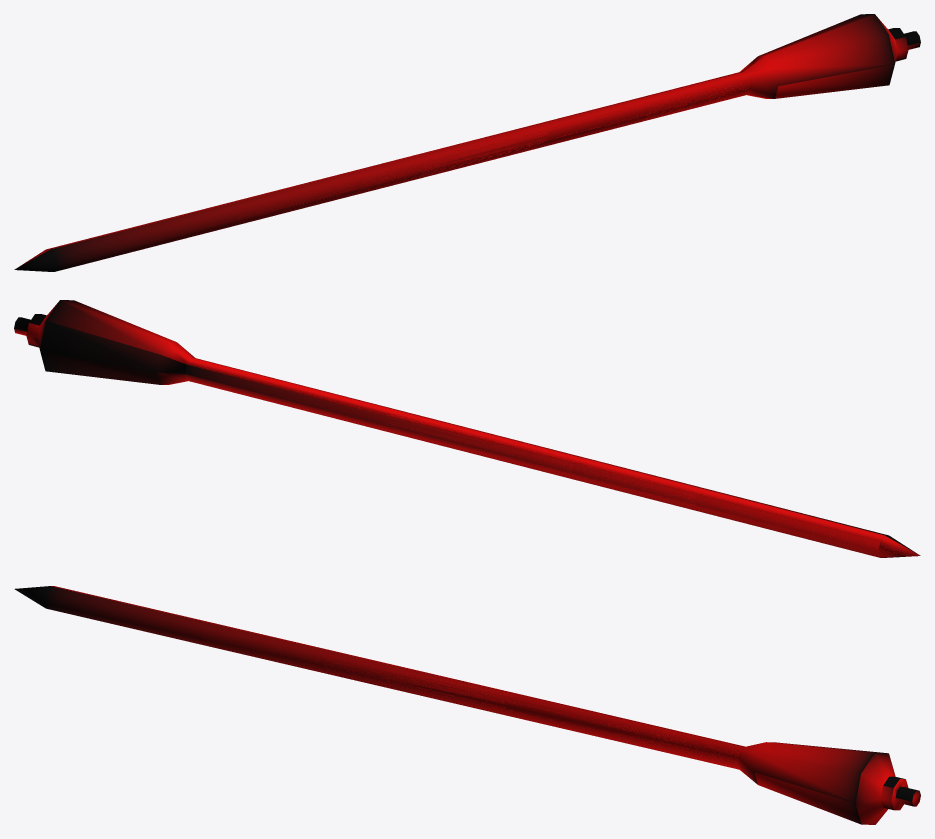
File: W_Tikitorch.fbx
3 views of the same model, one above another, from view 1: azimuth 30°, elevation 25°; view 2: azimuth 150°, elevation 25°; view 3: azimuth 330°, elevation 25° (orthographic).
Visible parts, largest first — view 1: Cylinder; view 2: Cylinder; view 3: Cylinder.
Boxes of the visible parts, x1,y1,x2,y2 form: Cylinder: (14,14,920,271); Cylinder: (14,300,920,557); Cylinder: (14,586,920,824).
Bounding box in the file's own units: 0.8215 × 0.0624 × 0.0624.
